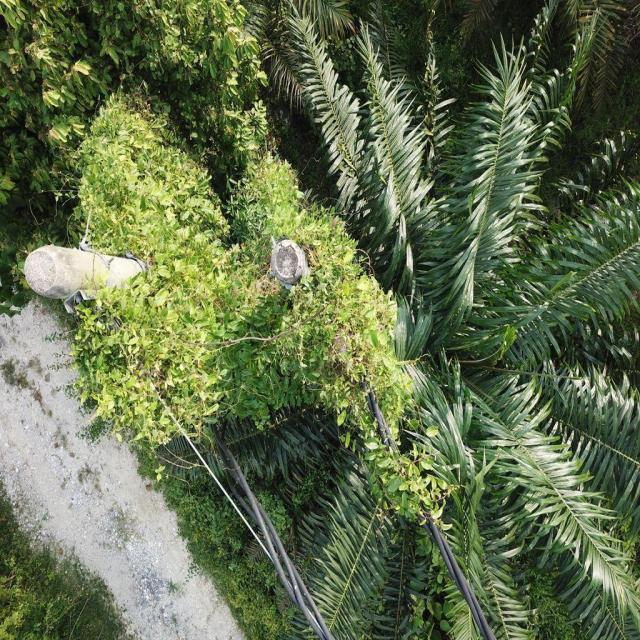critical vegetation: (38, 84, 463, 538)
